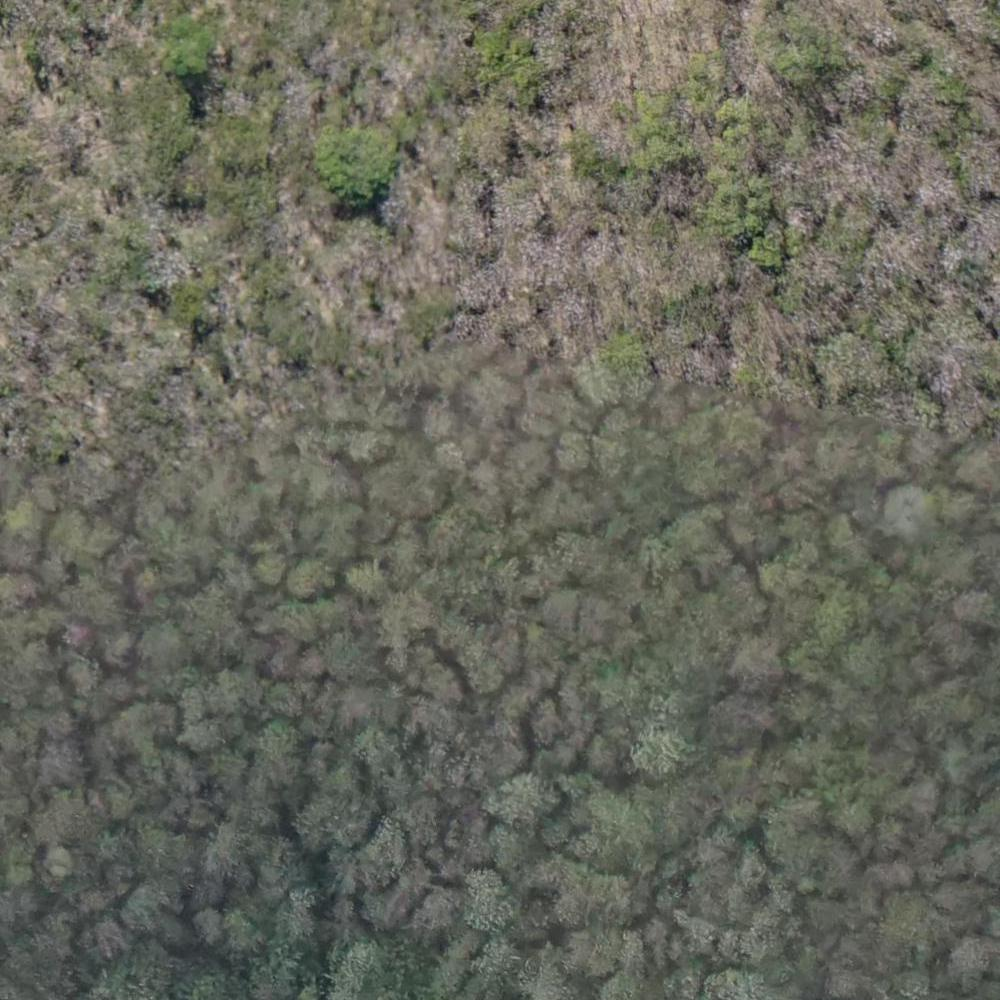tree: (630, 716, 695, 786), (324, 124, 385, 194), (491, 770, 561, 829), (590, 800, 655, 863), (185, 686, 254, 744), (370, 452, 439, 510), (307, 782, 367, 848), (545, 589, 610, 646), (598, 332, 653, 395), (58, 448, 118, 504), (509, 433, 564, 494), (165, 10, 215, 75), (459, 869, 510, 927), (209, 824, 259, 883), (323, 631, 374, 685), (888, 485, 941, 534), (733, 643, 783, 694), (879, 892, 930, 939), (115, 882, 167, 927), (291, 561, 339, 608), (218, 910, 264, 955), (819, 592, 863, 638), (847, 639, 893, 683), (2, 506, 41, 557), (599, 437, 639, 485), (79, 918, 127, 958), (462, 648, 506, 691), (560, 430, 600, 475), (182, 905, 224, 946), (1, 571, 44, 611), (43, 846, 83, 887), (759, 558, 800, 598), (59, 659, 102, 697), (751, 230, 786, 272), (103, 635, 140, 666), (357, 566, 389, 599), (259, 552, 291, 584), (263, 681, 299, 708)
